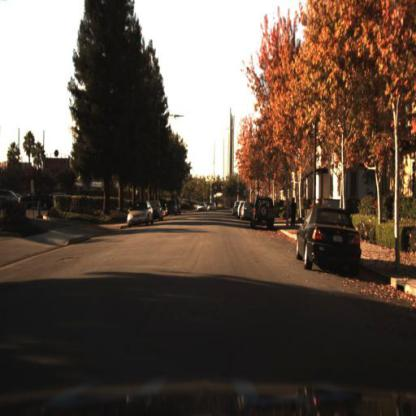car: (292, 197, 370, 280), (250, 195, 278, 232), (125, 200, 155, 234), (148, 197, 166, 226), (241, 196, 254, 226), (164, 200, 179, 221), (164, 198, 179, 219), (194, 195, 208, 217), (153, 199, 164, 223), (207, 195, 220, 214)
pedestrian: (287, 193, 302, 237)
